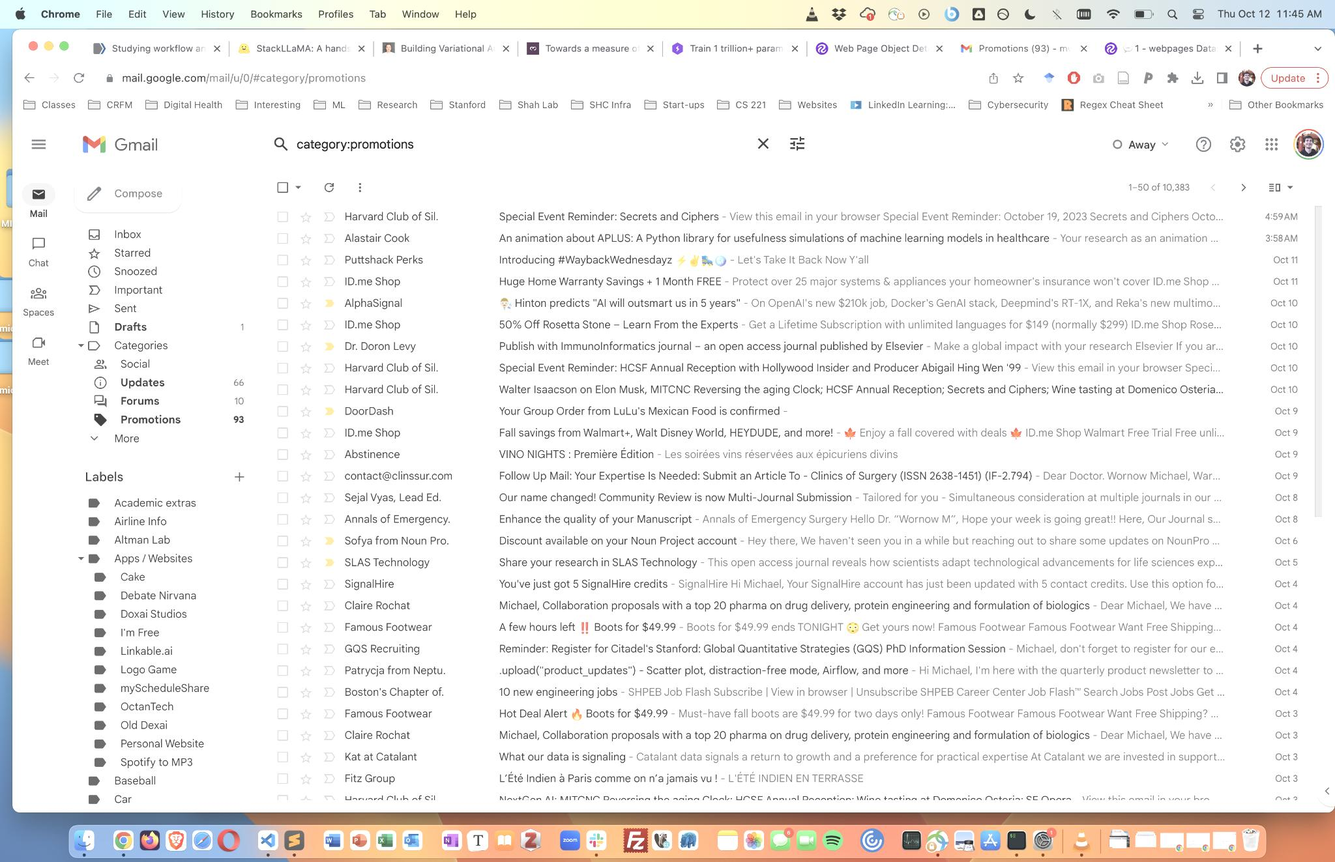webelement: (260, 267, 1312, 294), (262, 248, 1319, 274), (262, 596, 1315, 622), (262, 398, 1313, 424), (264, 722, 1306, 747), (261, 423, 1312, 447), (263, 572, 1311, 596), (270, 528, 1311, 552), (263, 336, 1317, 359), (264, 377, 1313, 400), (262, 206, 1310, 229), (264, 123, 822, 166), (261, 640, 1315, 662), (260, 294, 1312, 316), (269, 767, 1310, 789), (266, 746, 1304, 768), (262, 316, 1310, 337), (268, 487, 1310, 508), (268, 508, 1310, 529), (270, 551, 1312, 572), (261, 663, 1314, 683), (260, 683, 1312, 703), (262, 228, 1311, 248), (264, 702, 1311, 722), (268, 465, 1313, 484), (263, 359, 1316, 376), (262, 622, 1314, 639), (268, 447, 1311, 464), (70, 338, 255, 432), (71, 174, 185, 216), (69, 602, 258, 625), (71, 511, 258, 534), (75, 771, 264, 793), (70, 432, 255, 454), (69, 260, 260, 281), (77, 791, 266, 812), (72, 495, 255, 516), (67, 300, 258, 320), (70, 531, 258, 551), (74, 753, 260, 773), (74, 734, 257, 754), (70, 623, 257, 642), (72, 681, 258, 700), (74, 716, 257, 735), (69, 226, 256, 244), (69, 245, 260, 262), (69, 553, 259, 570), (69, 284, 257, 301), (73, 659, 258, 676), (72, 584, 256, 601), (1103, 125, 1181, 165), (69, 322, 260, 338), (72, 644, 255, 660), (71, 702, 263, 716), (73, 571, 258, 585), (20, 328, 62, 373), (21, 281, 64, 321), (20, 179, 61, 220), (18, 233, 61, 271), (1122, 179, 1200, 197), (1293, 127, 1326, 163), (268, 175, 311, 201), (22, 132, 58, 162), (1224, 127, 1253, 160), (316, 175, 349, 203), (1258, 130, 1287, 161), (1191, 129, 1217, 159), (451, 178, 485, 200), (1230, 177, 1258, 200), (228, 470, 253, 491), (1207, 179, 1224, 198)
